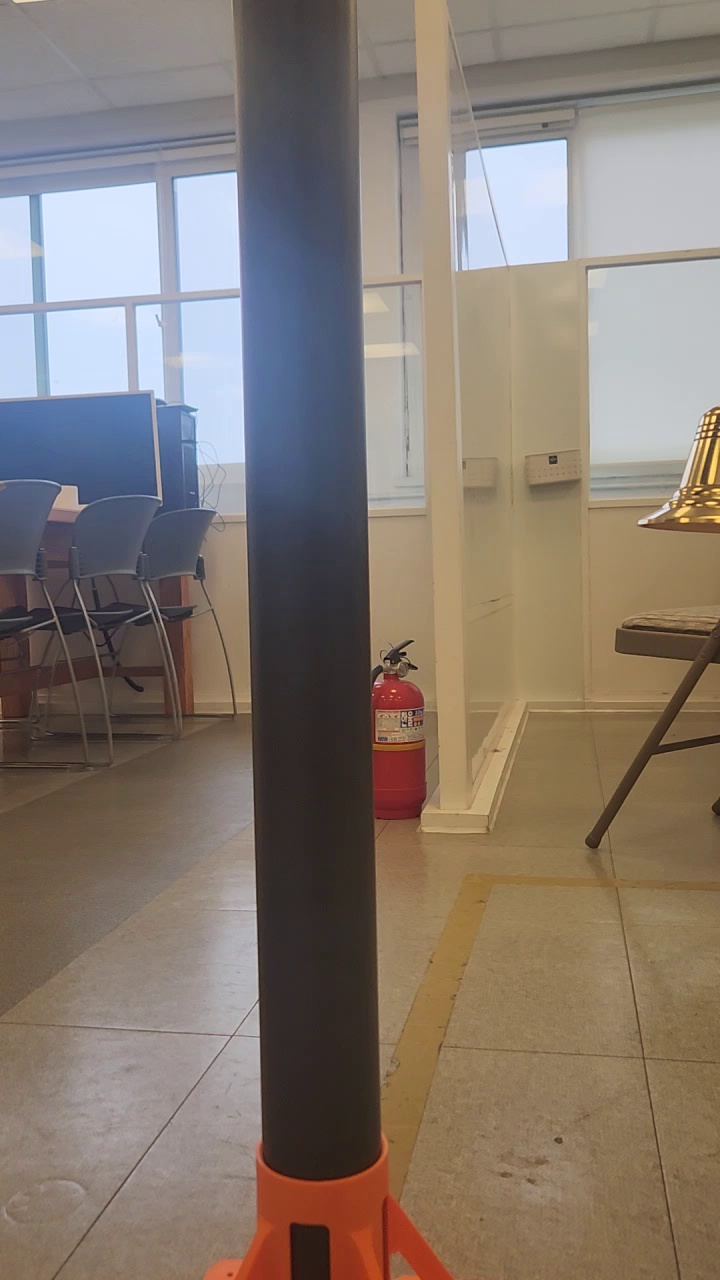bell: (636, 405, 720, 532)
pole: (224, 0, 386, 1155)
